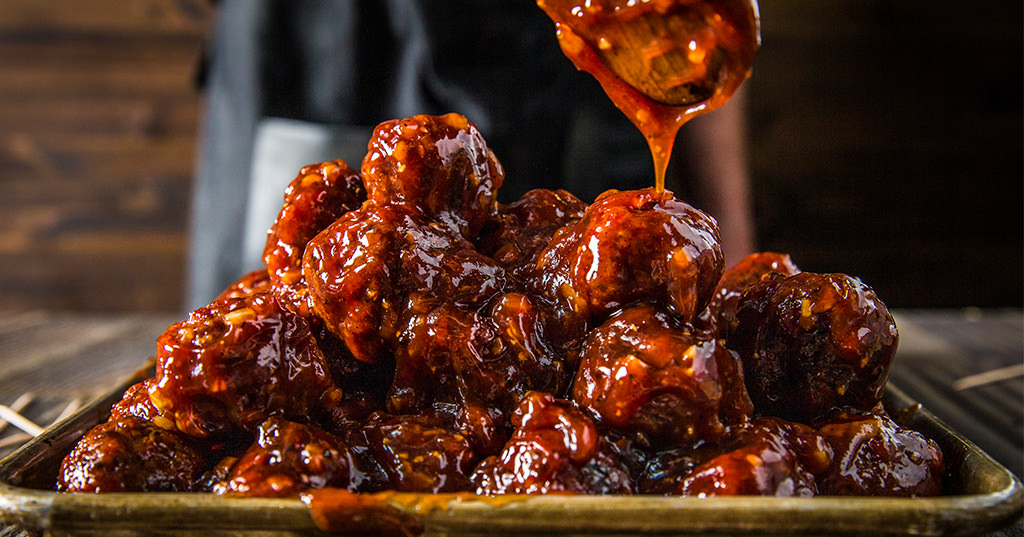meatballs: (278, 181, 899, 486)
